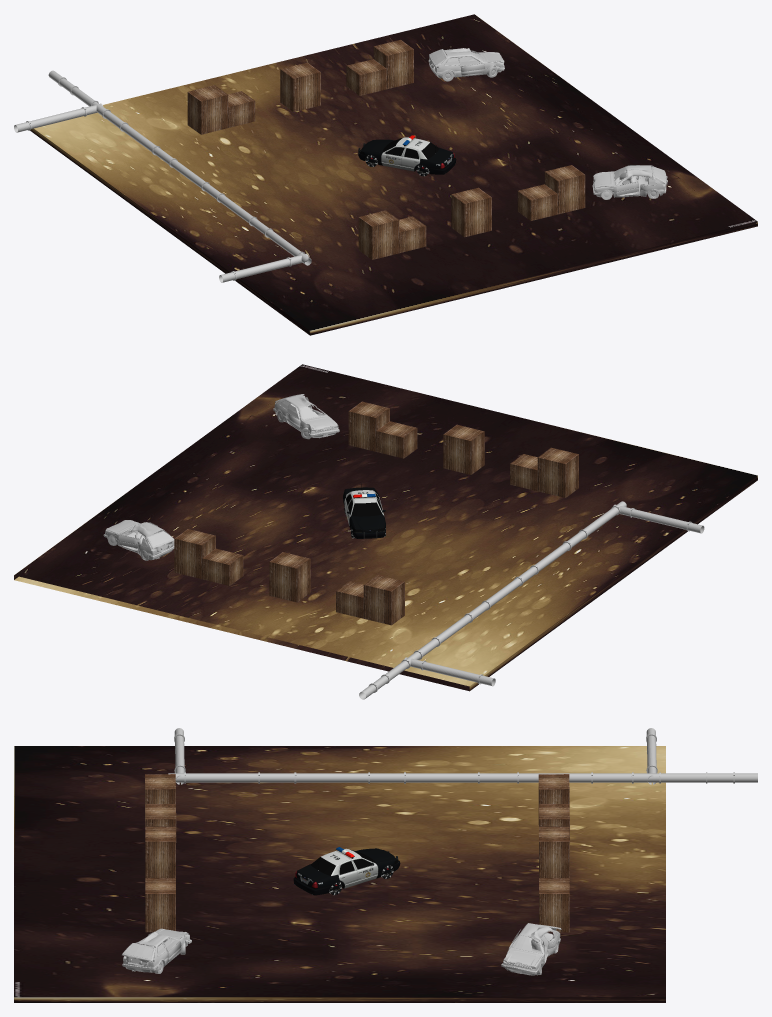
File: map.FBX
The picture shows the model from 3 angles, top to bottom: view 1: azimuth 30°, elevation 25°; view 2: azimuth 150°, elevation 25°; view 3: azimuth 270°, elevation 25°; orthographic projection. The views are drawn at different scales.
Parts seen in each view (by area): view 1: Box001, crown_victoria, carA_82hatchback_wrecked001, carA_82hatchback_wrecked, Box008, Box005, Box006, Box011, Box002, Box010, Box007, Box003 (+7 smaller); view 2: Box001, carA_82hatchback_wrecked, crown_victoria, Box011, Box006, Box008, Box005, carA_82hatchback_wrecked001, Box002, Box010, Box003, Box007 (+6 smaller); view 3: Box001, crown_victoria, carA_82hatchback_wrecked, carA_82hatchback_wrecked001, Box002, Box006, Box011, Box010, RustPipe001, RustPipe002, RustPipe003, RustPipe005 (+8 smaller).
Part boxes in pixels (left/top/right/bottom): Box001: left=30, top=14, right=757, bottom=335; crown_victoria: left=358, top=135, right=456, bottom=176; carA_82hatchback_wrecked001: left=592, top=165, right=667, bottom=199; carA_82hatchback_wrecked: left=428, top=48, right=504, bottom=81; Box008: left=187, top=85, right=228, bottom=134; Box005: left=358, top=210, right=399, bottom=259; Box006: left=451, top=187, right=491, bottom=237; Box011: left=280, top=62, right=320, bottom=111; Box002: left=544, top=165, right=585, bottom=214; Box010: left=373, top=40, right=413, bottom=89; Box007: left=346, top=59, right=386, bottom=95; Box003: left=517, top=184, right=557, bottom=220; Box001: left=14, top=364, right=757, bottom=691; carA_82hatchback_wrecked: left=103, top=520, right=174, bottom=560; crown_victoria: left=343, top=483, right=385, bottom=538; Box011: left=269, top=552, right=310, bottom=602; Box006: left=443, top=424, right=484, bottom=474; Box008: left=363, top=575, right=404, bottom=625; Box005: left=537, top=447, right=578, bottom=497; carA_82hatchback_wrecked001: left=273, top=394, right=339, bottom=439; Box002: left=348, top=401, right=389, bottom=451; Box010: left=174, top=529, right=215, bottom=579; Box003: left=376, top=421, right=417, bottom=458; Box007: left=202, top=548, right=243, bottom=585; Box001: left=14, top=746, right=665, bottom=1002; crown_victoria: left=293, top=847, right=400, bottom=895; carA_82hatchback_wrecked: left=501, top=923, right=561, bottom=975; carA_82hatchback_wrecked001: left=122, top=928, right=191, bottom=973; Box002: left=145, top=878, right=175, bottom=932; Box006: left=145, top=826, right=175, bottom=877; Box011: left=539, top=826, right=569, bottom=877; Box010: left=539, top=878, right=569, bottom=932; RustPipe001: left=388, top=772, right=502, bottom=783; RustPipe002: left=616, top=772, right=730, bottom=783; RustPipe003: left=278, top=772, right=392, bottom=783; RustPipe005: left=168, top=772, right=282, bottom=783.
Bounding box in the file's own units: 20.22 × 1.59 × 24.34.
